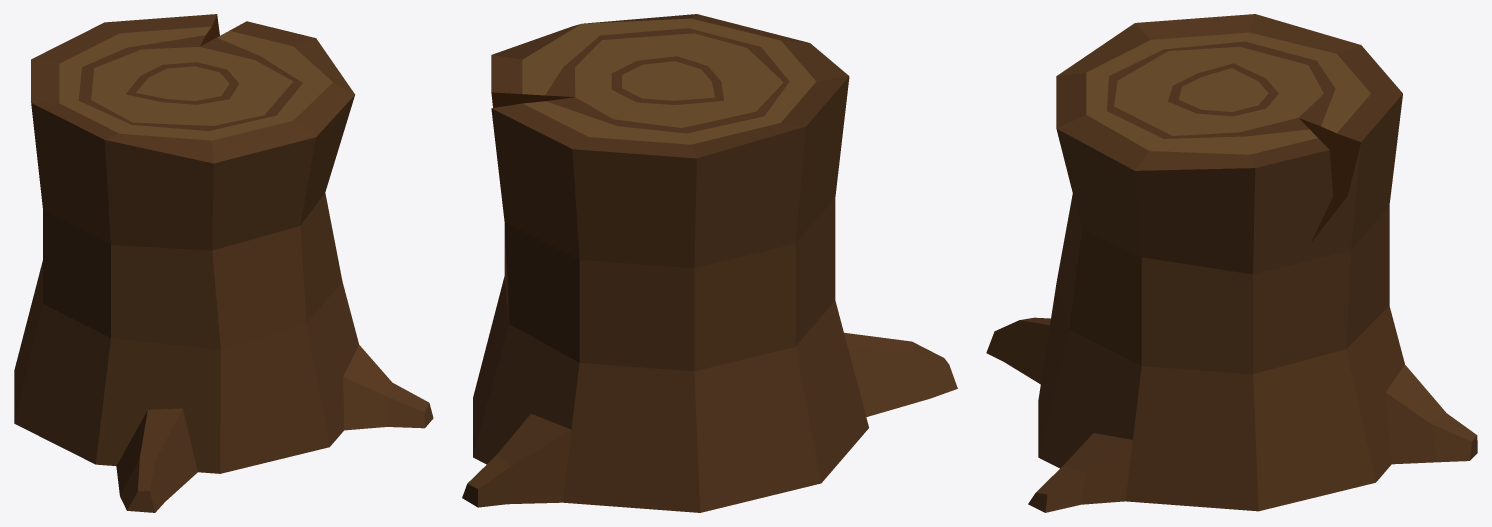
The picture shows the model from 3 angles, left to right: view 1: azimuth 30°, elevation 25°; view 2: azimuth 150°, elevation 25°; view 3: azimuth 270°, elevation 25°; orthographic projection. The views are drawn at different scales.
Visible parts, largest first — view 1: Object_79, Object_80; view 2: Object_79, Object_80, Object_81; view 3: Object_79, Object_80, Object_81.
Boxes of the visible parts, box(x1,y1,x2,y2) form: Object_79: box(14, 14, 433, 512); Object_80: box(59, 26, 332, 140); Object_79: box(462, 14, 957, 512); Object_80: box(522, 18, 816, 144); Object_81: box(491, 92, 574, 107); Object_79: box(986, 14, 1477, 512); Object_80: box(1086, 32, 1370, 154); Object_81: box(1299, 118, 1361, 242).
Bounding box in the file's own units: 45.93 × 42.99 × 56.21.
